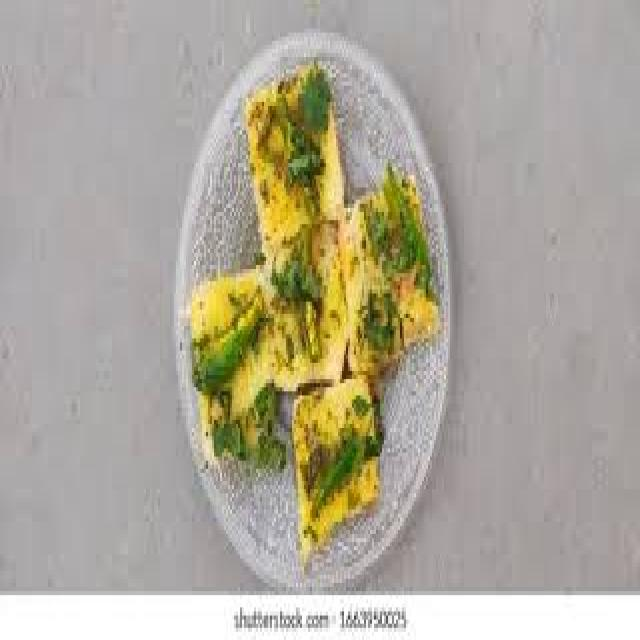DHOKLA: (244, 61, 342, 257), (346, 167, 438, 375), (292, 379, 380, 558), (260, 216, 346, 387)
